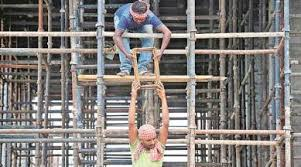arm: (112, 9, 137, 62), (148, 9, 173, 60), (122, 92, 140, 142), (160, 95, 171, 146)
face: (130, 6, 149, 20)
human: (109, 1, 174, 72)
noglove: (155, 80, 166, 97), (152, 45, 165, 58), (123, 47, 137, 59), (130, 78, 139, 91)
nogoggle: (145, 138, 157, 142)
nohelmet: (138, 126, 158, 148), (129, 1, 150, 18)
vest: (116, 9, 158, 44)
